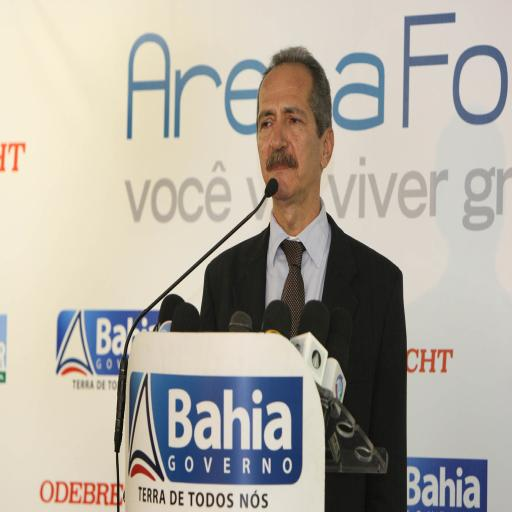Person: (174, 94, 424, 426)
no_goggle: (253, 156, 317, 179)
no_helmet: (249, 112, 333, 144)
none: (201, 238, 401, 423)
